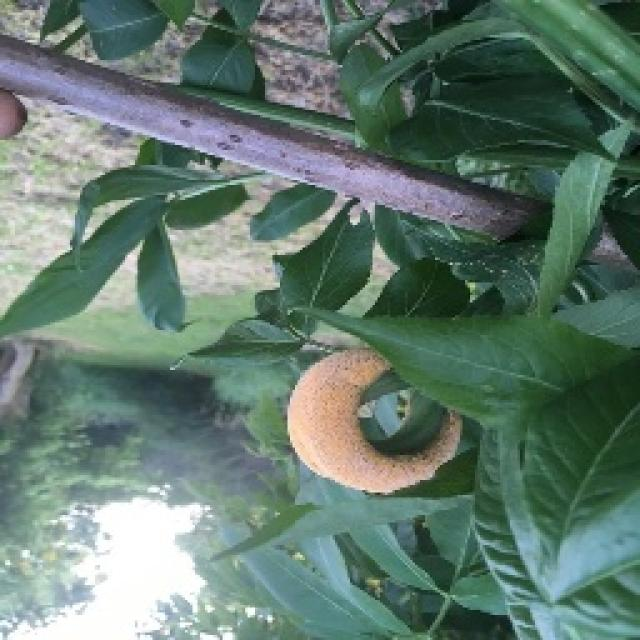Elderberry_rust: (283, 340, 465, 495)
